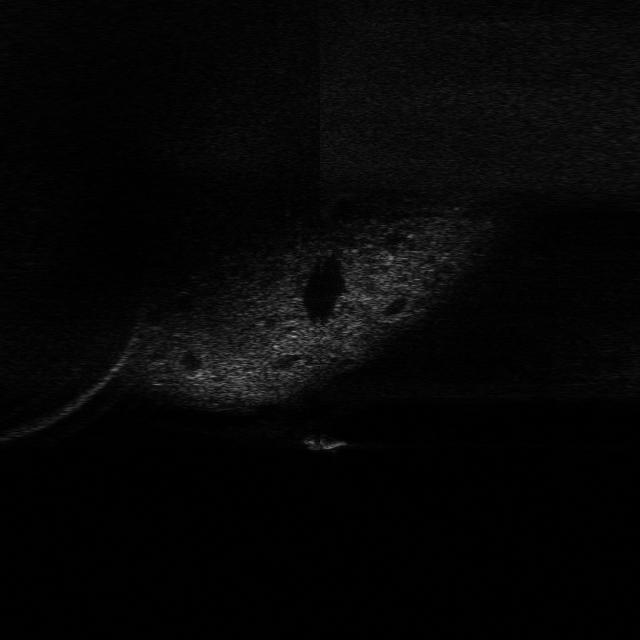cube: (294, 429, 354, 456)
